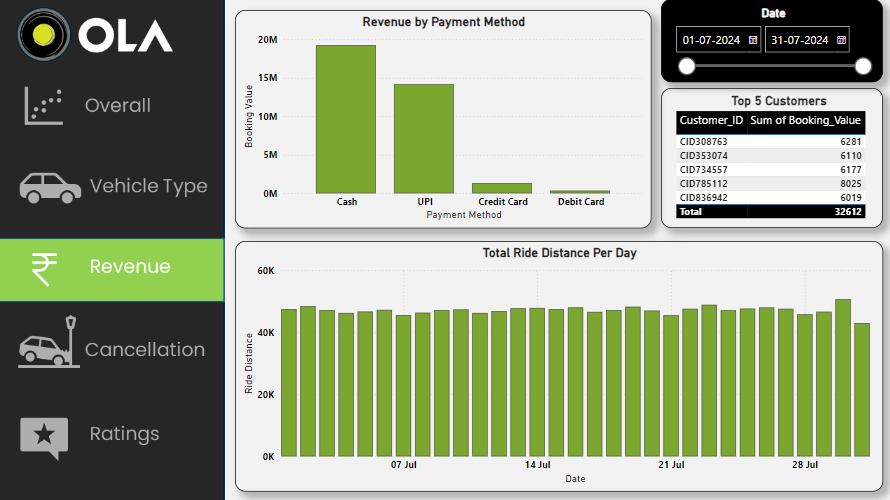

What the dashboard file says about the page in this screenshot:
{"tool":"powerbi","page":{"name":"Revenue","canvas":[1280,720],"ordinal":2},"visuals":[{"type":"actionButton","box":[0,216.7,325.1,128.8],"z":0},{"type":"actionButton","box":[0,109.6,325.1,90.3],"z":1000},{"type":"actionButton","box":[0,440.7,325.1,103.5],"z":2000},{"type":"actionButton","box":[0,552.6,325.1,125.2],"z":3000},{"type":"columnChart","title":"Revenue by Payment Method","fields":{"Category":["July.Payment_Method"],"Y":["Sum(July.Booking_Value)"]},"box":[338.3,15.7,594.8,311.8],"z":4000},{"type":"columnChart","title":"Total Ride Distance Per Day","fields":{"Y":["Sum(July.Ride_Distance)"],"Category":["July.Date"]},"box":[338.3,345.6,925.9,357.6],"z":5000},{"type":"slicer","title":"Date","fields":{"Values":["July.Date"]},"box":[947.6,0,316.7,119.2],"z":6000},{"type":"tableEx","title":"Top 5 Customers","fields":{"Values":["July.Customer_ID","Sum(July.Booking_Value)"]},"box":[947.6,127.6,316.7,199.9],"z":6001}]}

Visuals, with their boxes in screenshot pixels (x1, y1, x2, y2), scaled from the page's 1280x720 canvas onto the 890x500 screenshot:
actionButton: [0, 150, 226, 240]
actionButton: [0, 76, 226, 139]
actionButton: [0, 306, 226, 378]
actionButton: [0, 384, 226, 471]
"Revenue by Payment Method" columnChart: [235, 11, 649, 227]
"Total Ride Distance Per Day" columnChart: [235, 240, 879, 488]
"Date" slicer: [659, 0, 879, 83]
"Top 5 Customers" tableEx: [659, 89, 879, 227]
